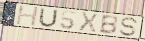5: (60, 9, 78, 31)
B: (99, 15, 120, 36)
H: (15, 5, 40, 27)
S: (119, 16, 140, 37)
U: (37, 7, 59, 29)
X: (78, 11, 100, 33)
